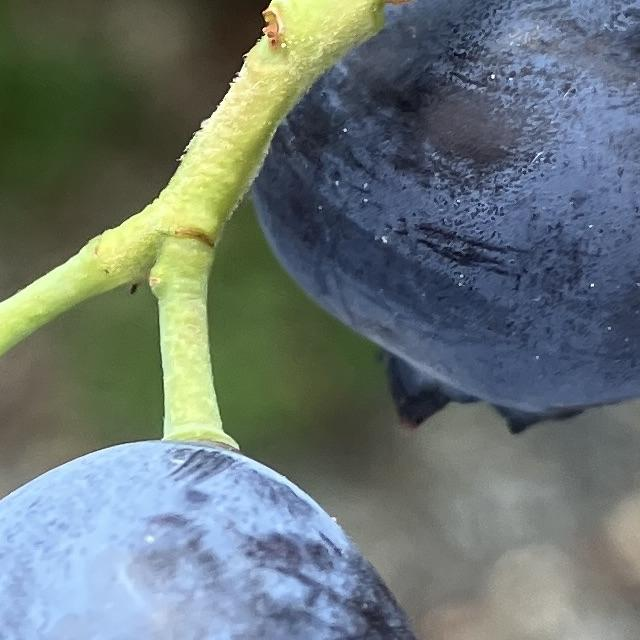Blueberries: (0, 432, 455, 640)
